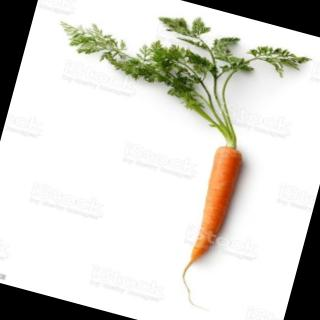Wortel: (185, 146, 244, 268)
